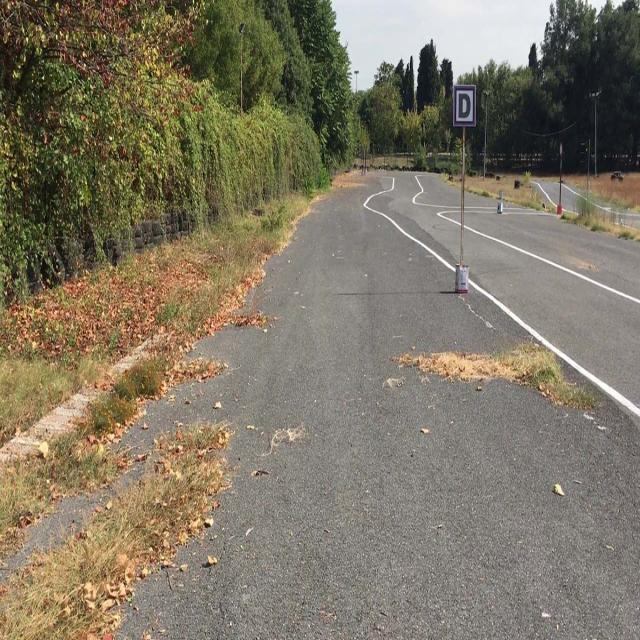durak: (453, 86, 475, 126)
